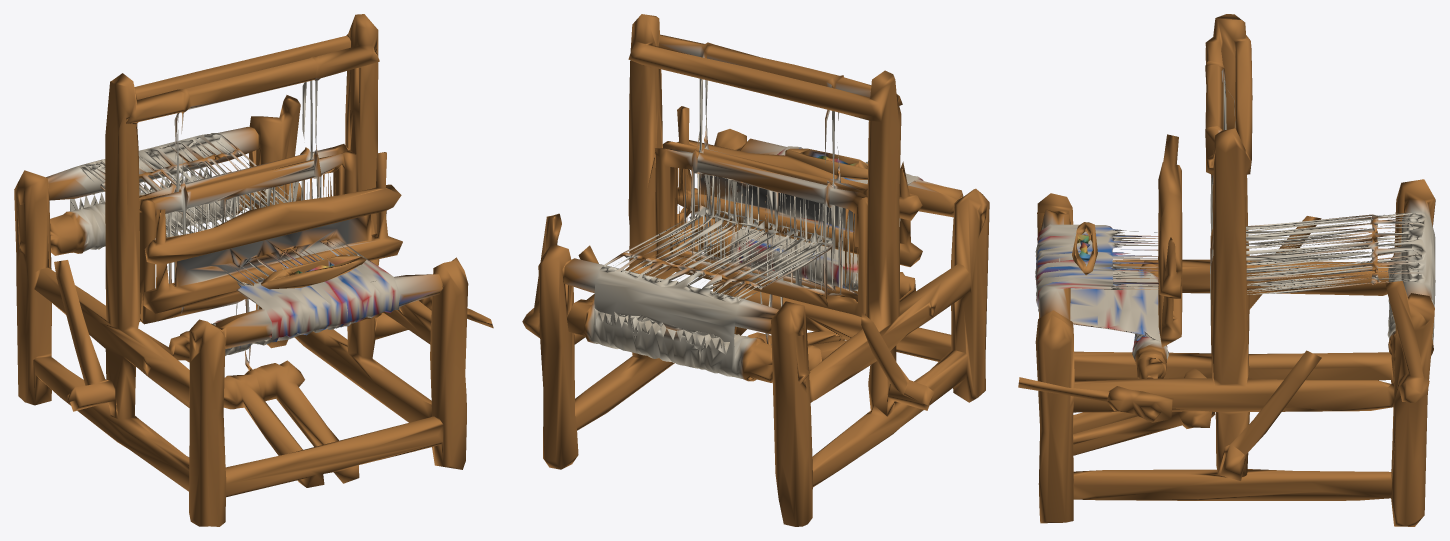
File: khung-cui.e31dfc51.glb
3 views of the same model, side by side, from view 1: azimuth 30°, elevation 25°; view 2: azimuth 150°, elevation 25°; view 3: azimuth 270°, elevation 25° (orthographic).
Visible parts, largest first — view 1: tripo_node_65f5dfc7-da5c-4f50-a6fa-3d497f3a0198; view 2: tripo_node_65f5dfc7-da5c-4f50-a6fa-3d497f3a0198; view 3: tripo_node_65f5dfc7-da5c-4f50-a6fa-3d497f3a0198.
Boxes of the visible parts, x1,y1,x2,y2 form: tripo_node_65f5dfc7-da5c-4f50-a6fa-3d497f3a0198: (14, 14, 493, 526); tripo_node_65f5dfc7-da5c-4f50-a6fa-3d497f3a0198: (522, 14, 989, 526); tripo_node_65f5dfc7-da5c-4f50-a6fa-3d497f3a0198: (1018, 14, 1435, 526).
Size of the model in its own units: 0.8797 by 0.9753 by 0.9365.
